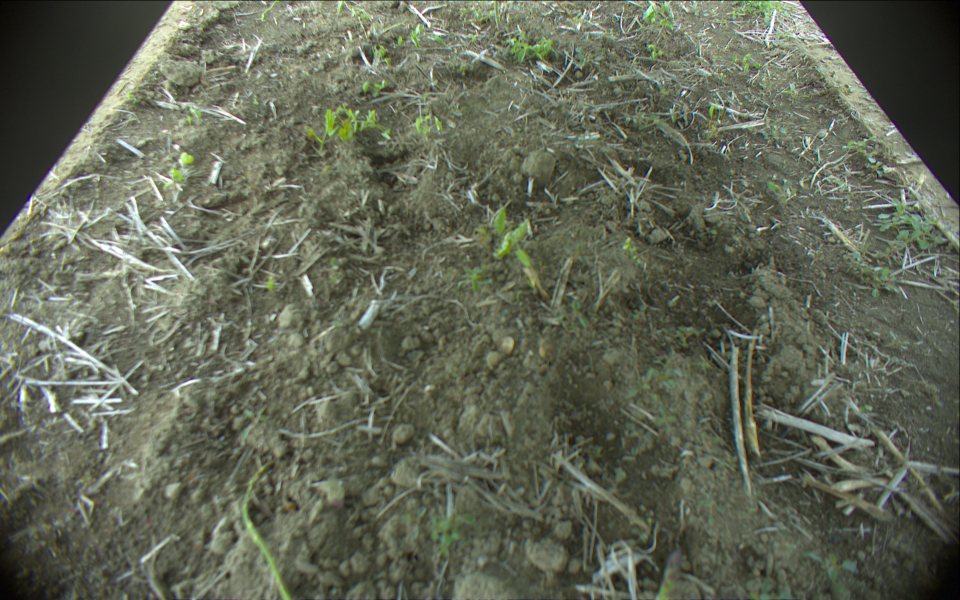aspa: (240, 461, 294, 600)
